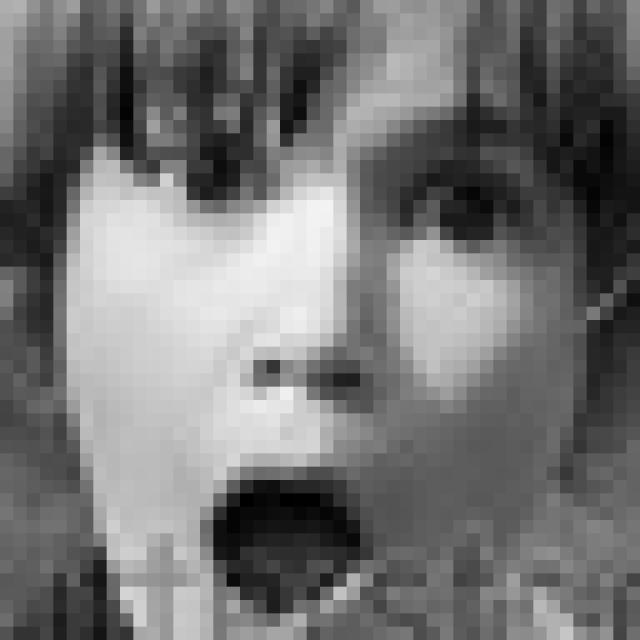surprise: (98, 101, 564, 633)
